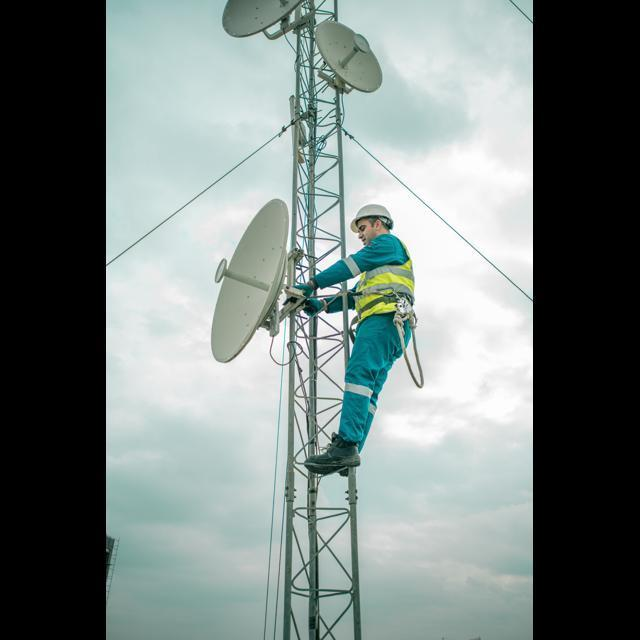Capacete: (350, 204, 392, 232)
Colete: (355, 241, 414, 321)
Pessoa: (296, 204, 413, 474)
